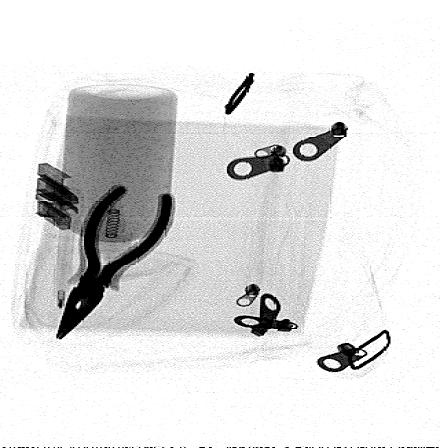Pliers: (54, 183, 175, 338)
